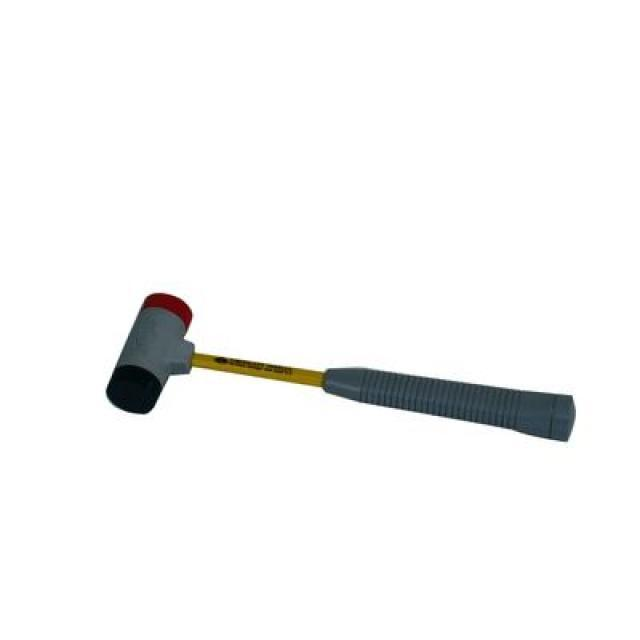hammer: (93, 284, 592, 473)
